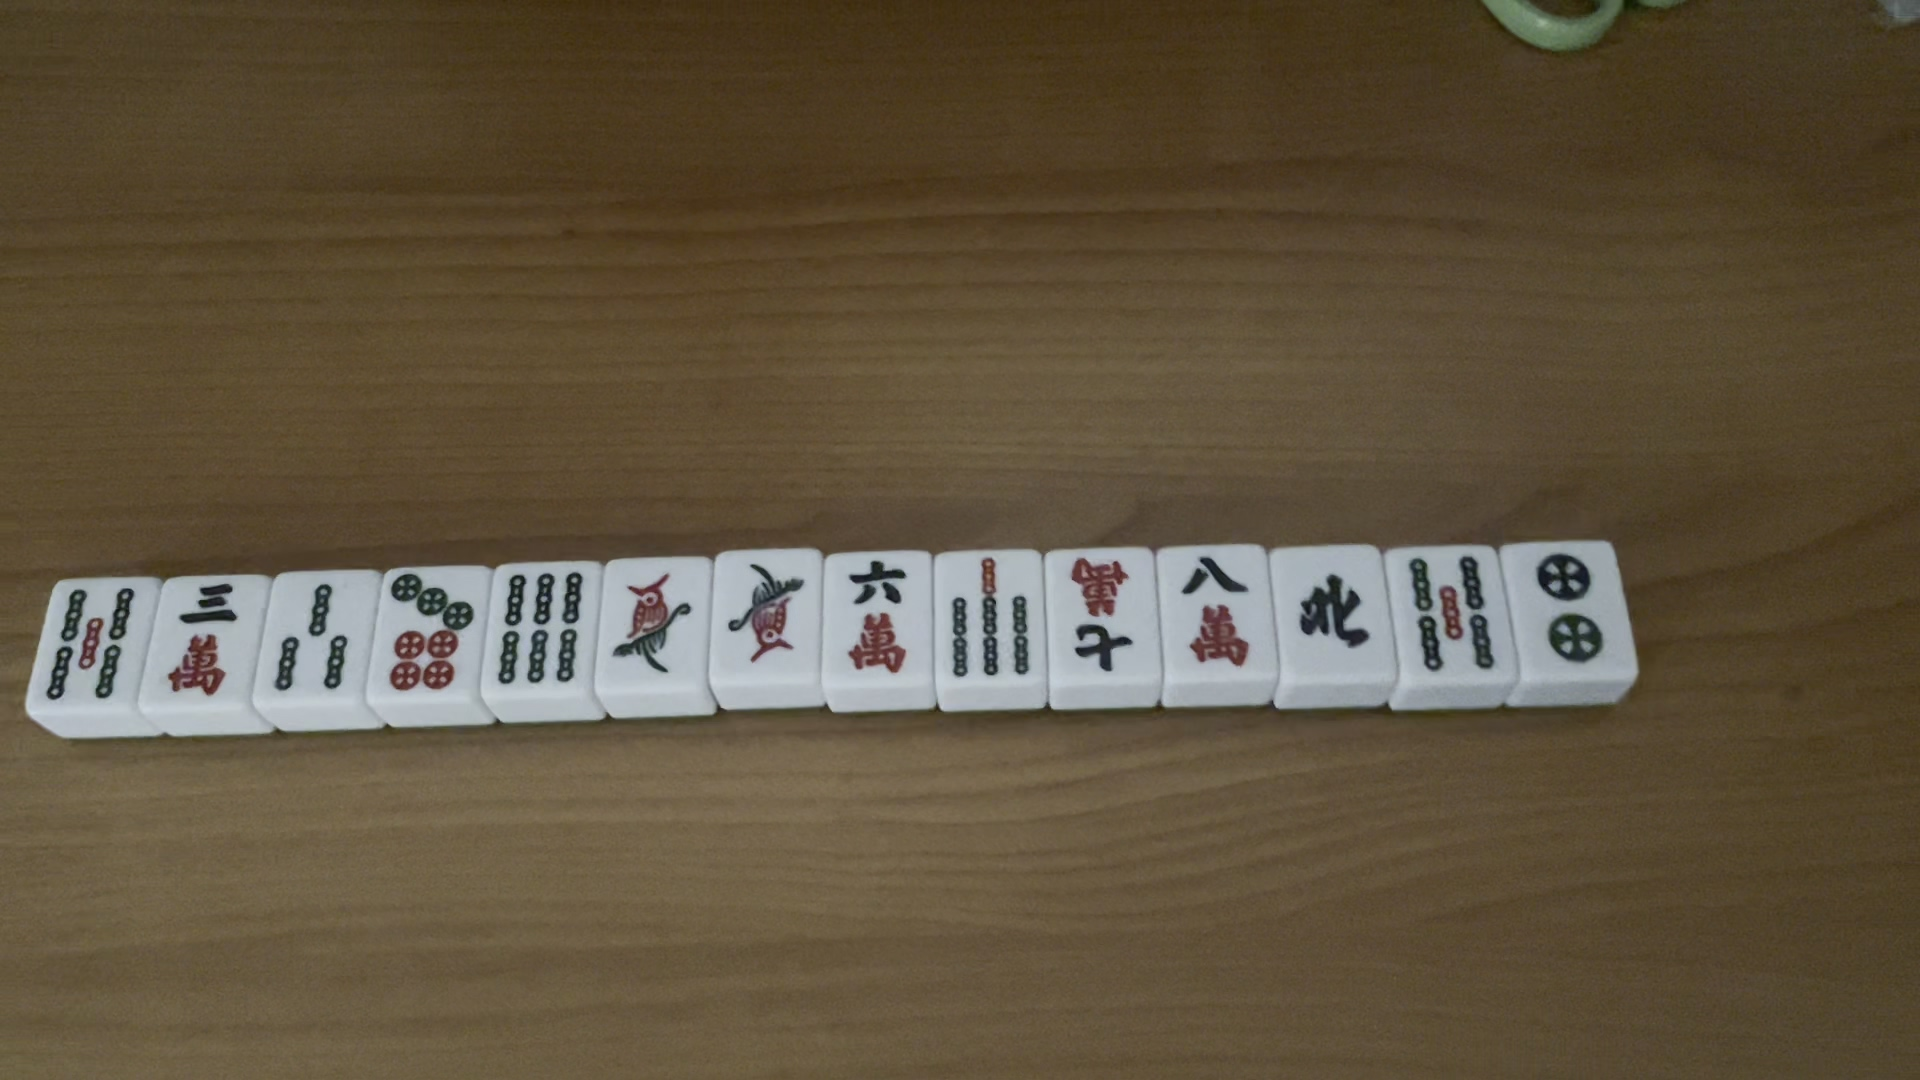b-1: (713, 554, 814, 676), (600, 559, 699, 682)
b-3: (268, 579, 355, 691)
b-5: (32, 579, 142, 711), (1396, 545, 1507, 676)
b-6: (487, 570, 587, 686)
b-7: (942, 554, 1039, 684)
c-3: (160, 579, 239, 713)
c-6: (841, 556, 915, 675)
c-7: (1062, 556, 1142, 683)
c-8: (1176, 549, 1255, 669)
d-2: (1524, 549, 1604, 673)
d-7: (376, 568, 477, 694)
honors-north: (1294, 570, 1387, 659)
